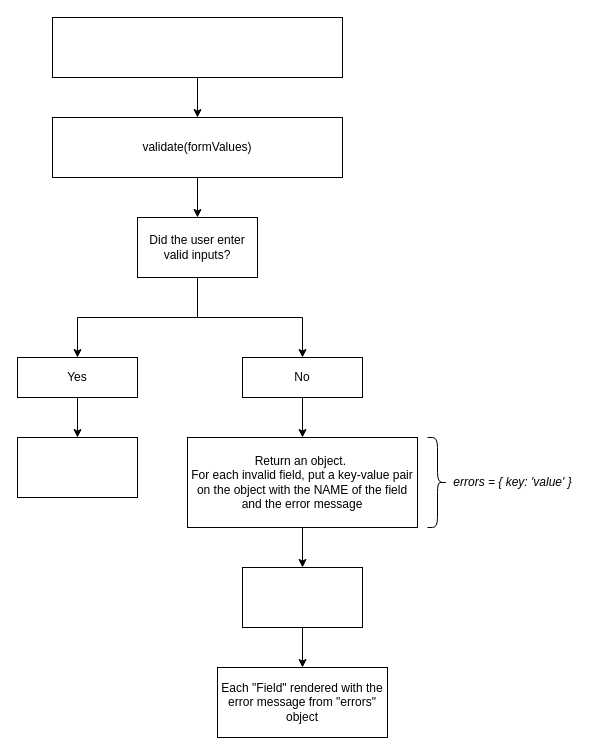
Image size: 600x755. Some labels were removed from this diagram. The shapes that lost their labels are listed below. From the top down, each one's centre as x and y in pixels, then its label:
the point at 197,47: Form is initially rendered or user interacts with it
the point at 77,467: Return an empty object
the point at 302,597: Redux form rerenders the component
